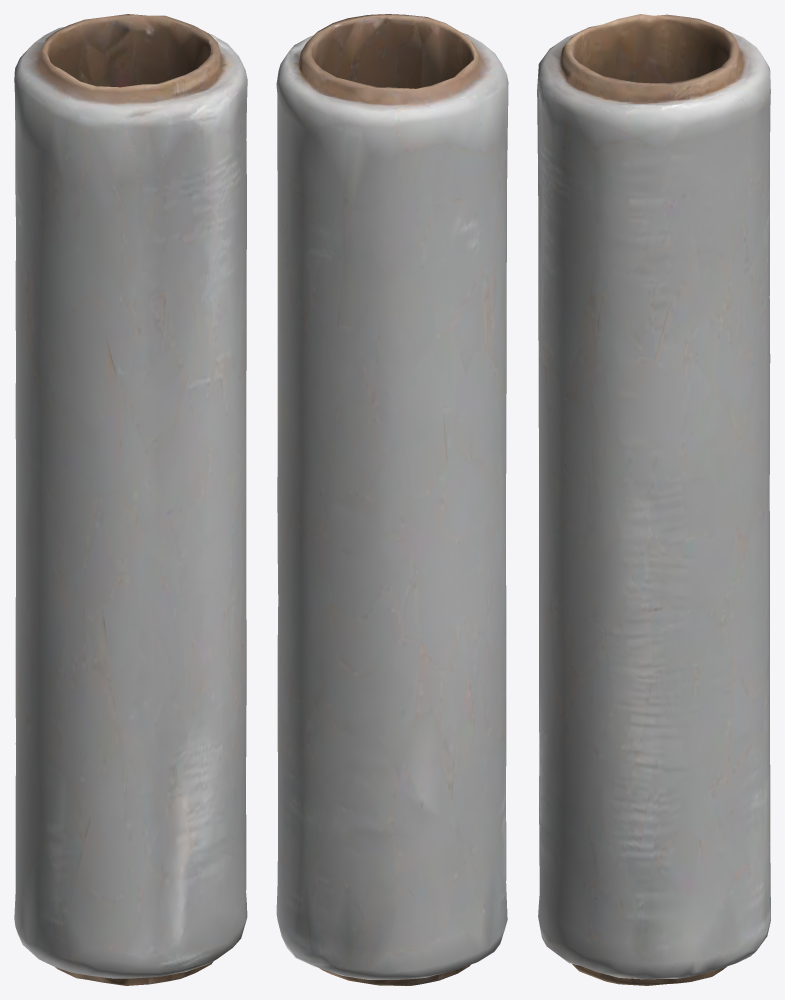
File: react-film_stretch-CP_rbcA2.glb
3 renders of one model, left to right at view 1: azimuth 30°, elevation 25°; view 2: azimuth 150°, elevation 25°; view 3: azimuth 270°, elevation 25°, orthographic.
Parts seen in each view (by area): view 1: Meshy_Mesh_0; view 2: Meshy_Mesh_0; view 3: Meshy_Mesh_0.
Boxes of the visible parts, box(x1,y1,x2,y2) form: Meshy_Mesh_0: box(14, 14, 247, 985); Meshy_Mesh_0: box(276, 14, 508, 985); Meshy_Mesh_0: box(537, 14, 770, 985).
Size of the model in its own units: 0.12 by 0.5112 by 0.12.
Materials: 1 (1 with a texture image).
